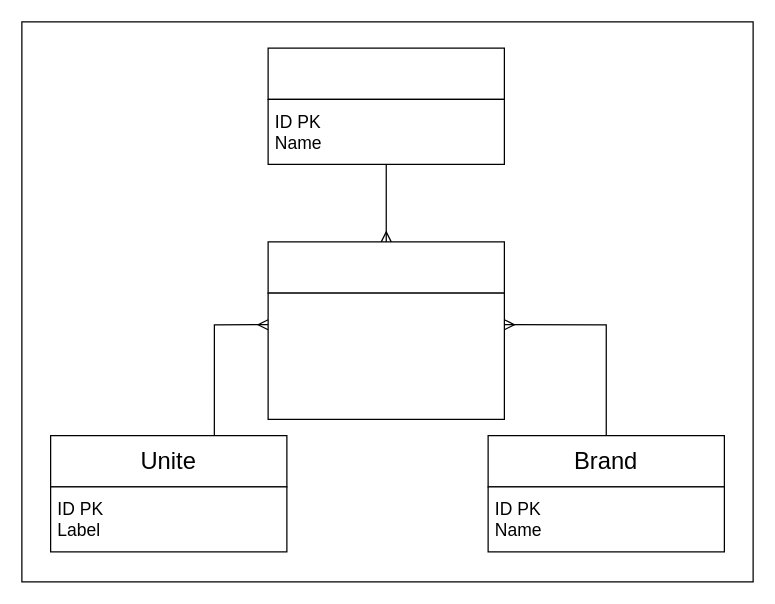
Image size: 775x604. Some labels were removed from this diagram. The centre of each missing label's shape, as x and y in pixels:
Category: point (385, 73)
ID PK unite_id* brand_id* category_id* ...Product data: point (385, 355)
Product: point (385, 267)
